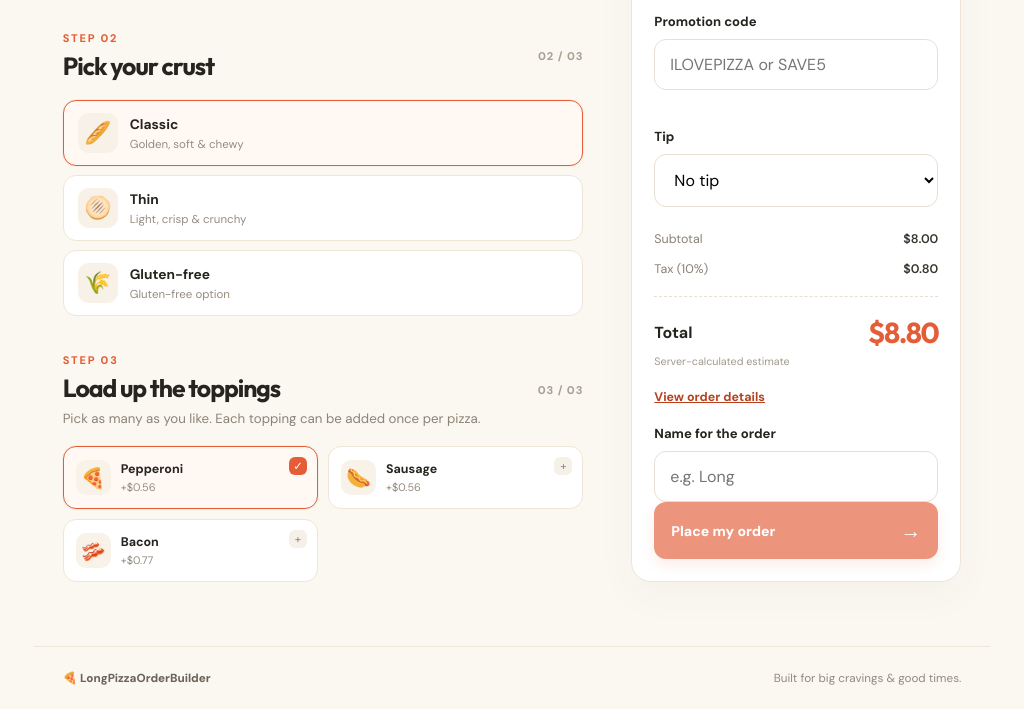
Scenario: UI-006: failures are shown to the customer, not swallowed › shows the server’s validation message and withholds the total
(page scrolled)
Expected: the text with test id "order-total" reads "$8.80", [868, 314, 938, 350]
Type "Sam" into the field labelled "Name for the order" at point(796, 477), box [654, 451, 938, 502]
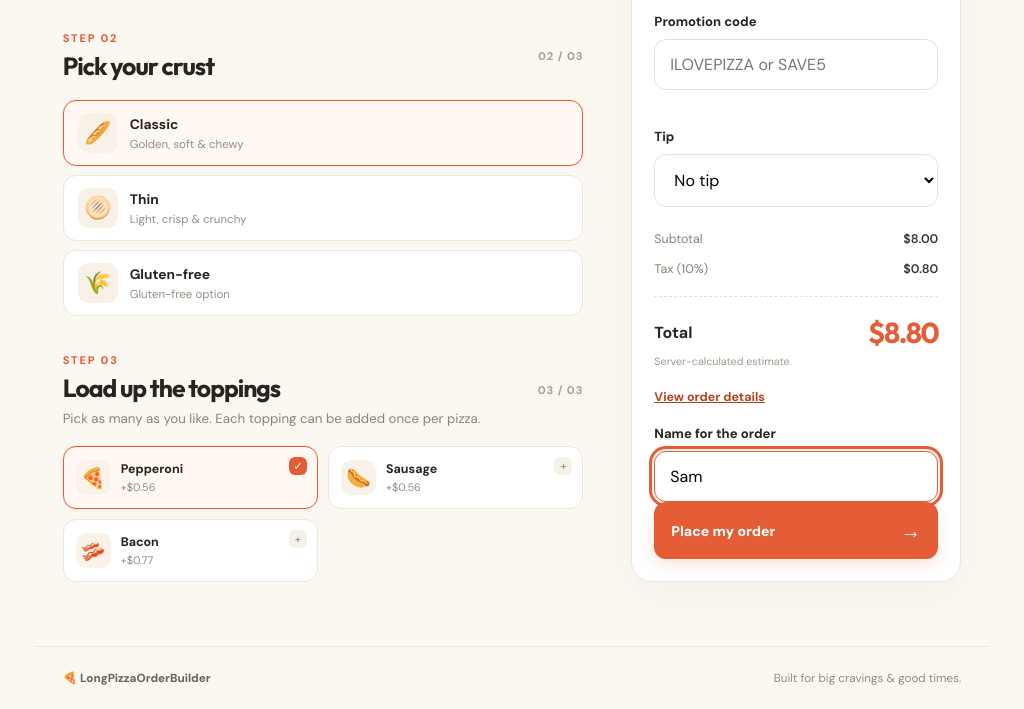
Select "Custom amount" in the dropdown labelled "Tip" at point(796, 181), box [654, 154, 938, 207]
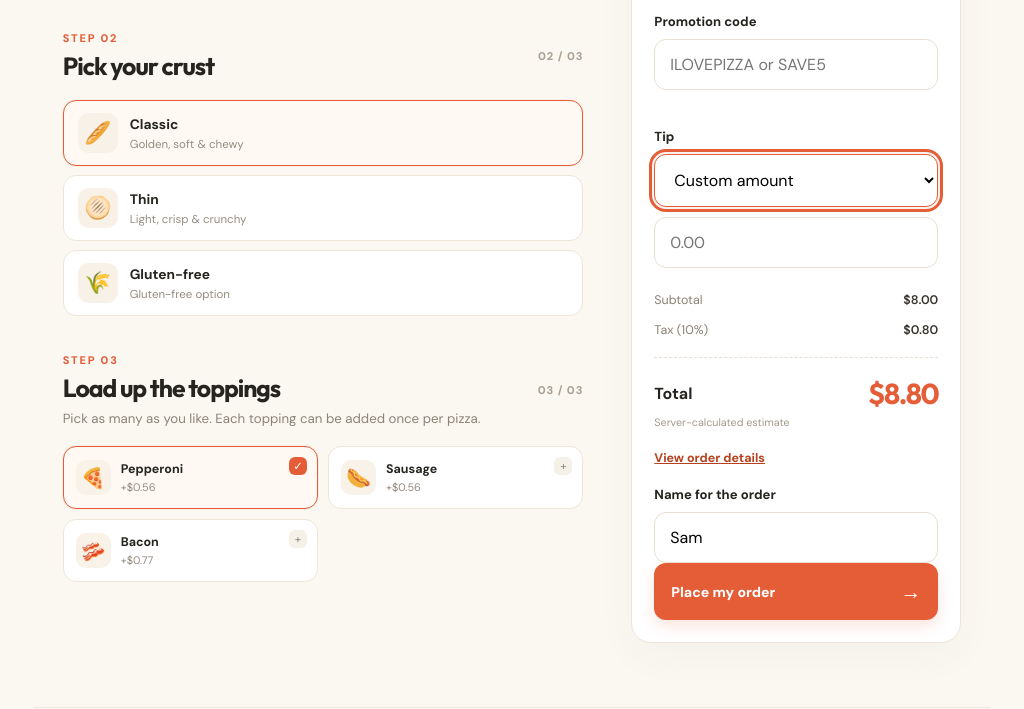
Type "-2" into the number field named "Custom tip amount" at point(796, 243), box [654, 217, 938, 268]
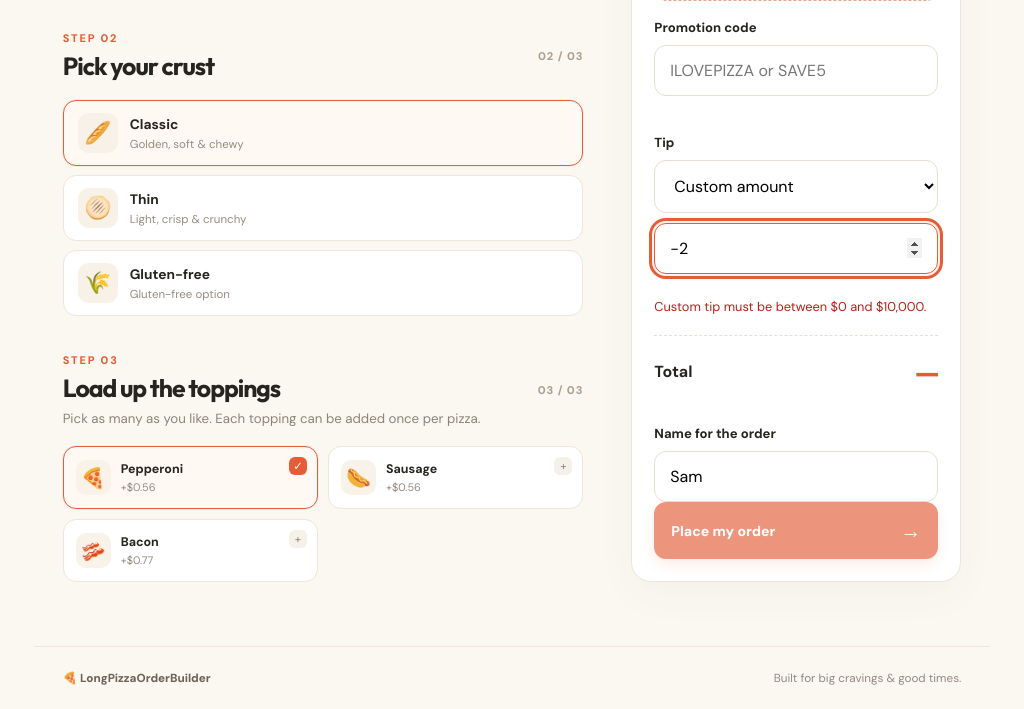
Result: the message "Custom tip must be between $0 and $10,000." is shown at [654, 297, 938, 316]
Result: the text with test id "order-total" reads "—" at [915, 353, 938, 389]
Result: the button "Place my order →" is disabled at [654, 502, 938, 559]
